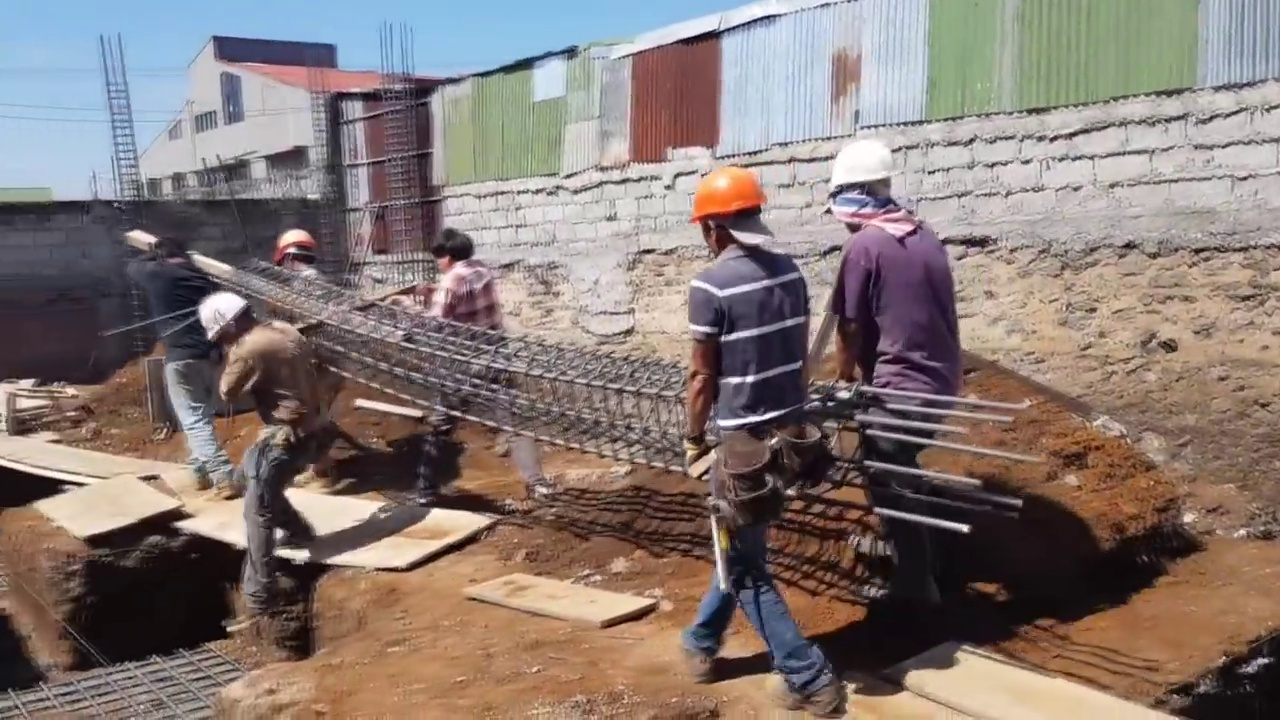helmet: (688, 169, 768, 233), (830, 138, 906, 193), (194, 289, 247, 342), (270, 227, 311, 260)
helmet-off: (427, 229, 472, 280), (140, 235, 187, 268)
helmet-on: (826, 140, 906, 236), (691, 165, 768, 262), (192, 290, 250, 356), (271, 225, 318, 274)
person: (677, 154, 827, 692), (817, 132, 966, 605), (210, 286, 325, 616), (400, 229, 511, 523), (133, 225, 242, 487)
